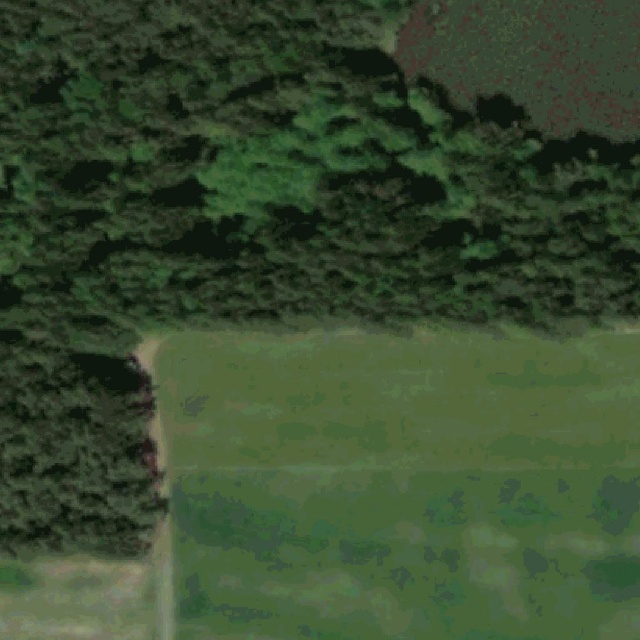vegetation: (0, 0, 640, 559)
